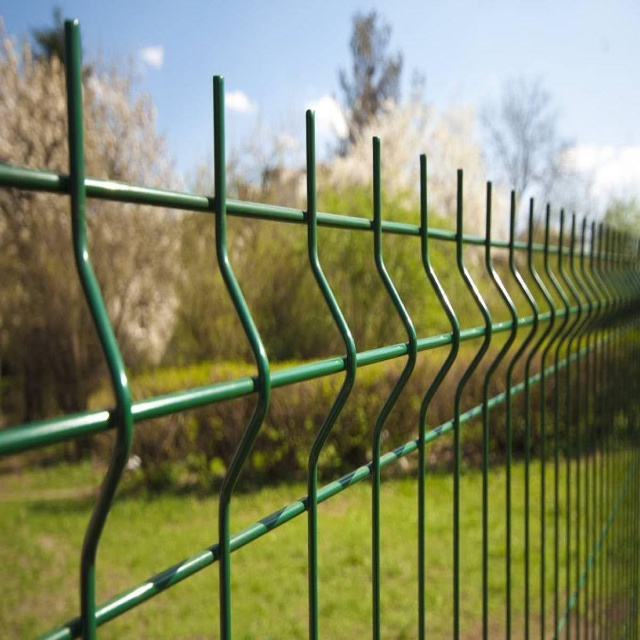obstacle: (0, 0, 640, 638)
